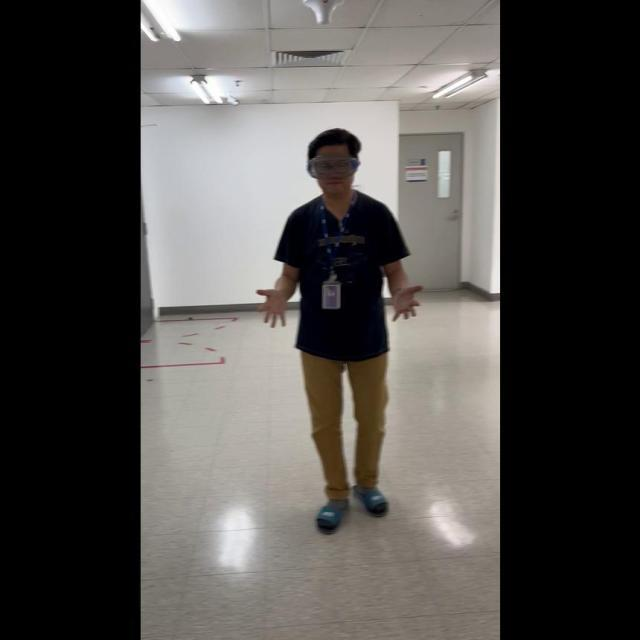bare_hand: (253, 285, 292, 329), (386, 281, 423, 322)
